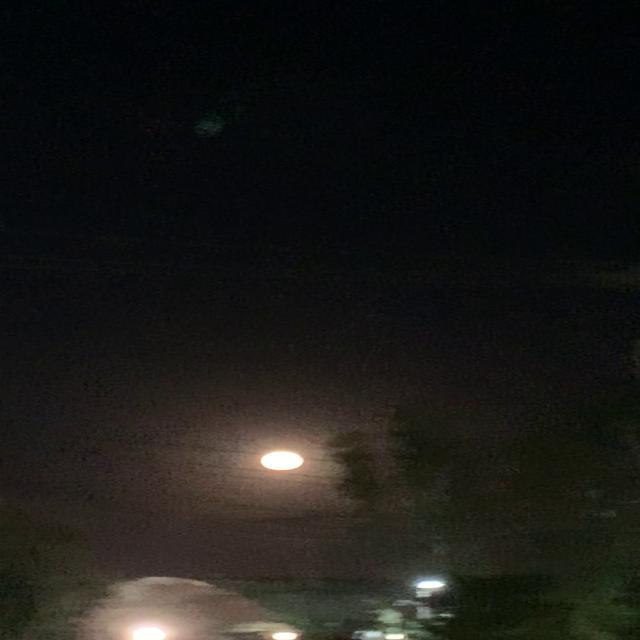moon: (266, 448, 319, 474)
